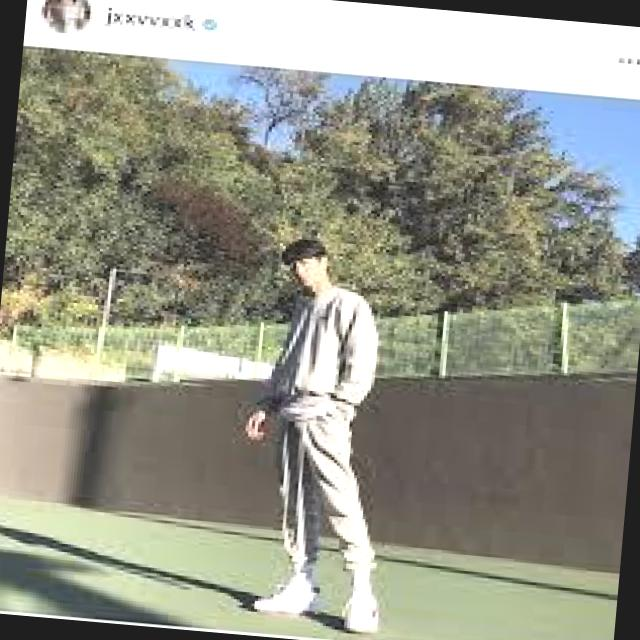pants: (248, 382, 404, 589)
sweater: (230, 278, 385, 440)
